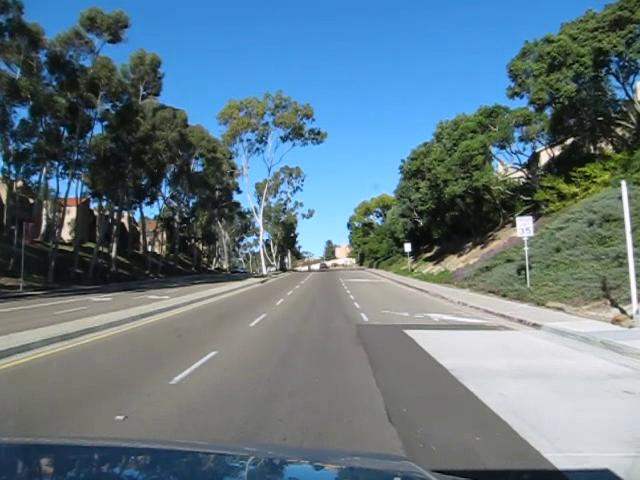speedLimit35: (515, 215, 533, 237)
